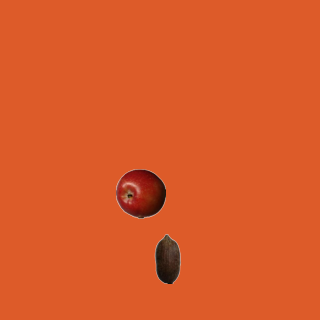Apple Braeburn: (115, 168, 165, 218)
Nut Pecan: (142, 233, 192, 283)
